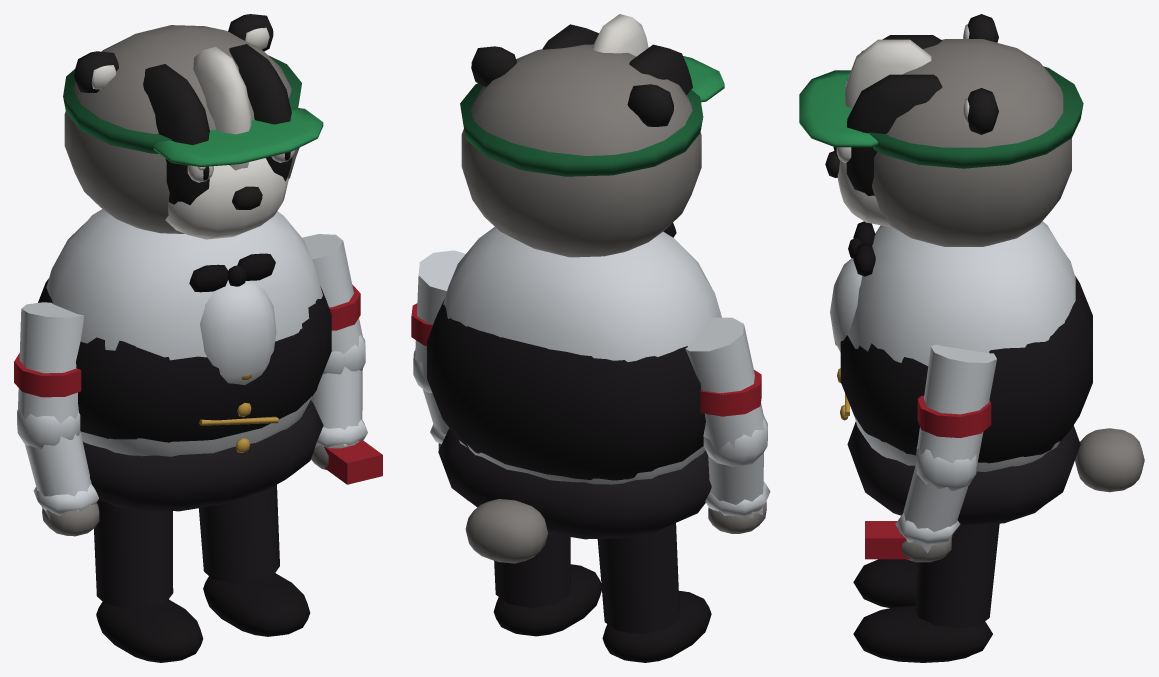
File: cedric.glb
3 renders of one model, left to right at view 1: azimuth 30°, elevation 25°; view 2: azimuth 150°, elevation 25°; view 3: azimuth 270°, elevation 25°, orthographic. The views are drawn at different scales.
Visible parts, largest first — view 1: Cedric_Body, Cedric_Head, Cedric_ArmR, Cedric_ArmL; view 2: Cedric_Body, Cedric_Head, Cedric_ArmR, Cedric_Tail, Cedric_ArmL; view 3: Cedric_Body, Cedric_Head, Cedric_ArmL, Cedric_Tail.
Part boxes in pixels (<box>): Cedric_Body: <box>38,209,331,662</box>; Cedric_Head: <box>63,14,323,239</box>; Cedric_ArmR: <box>14,302,99,536</box>; Cedric_ArmL: <box>302,234,382,484</box>; Cedric_Body: <box>427,223,721,662</box>; Cedric_Head: <box>460,14,724,257</box>; Cedric_ArmR: <box>685,317,770,533</box>; Cedric_Tail: <box>465,499,548,563</box>; Cedric_ArmL: <box>411,250,465,450</box>; Cedric_Body: <box>830,221,1092,662</box>; Cedric_Head: <box>799,14,1083,246</box>; Cedric_ArmL: <box>865,344,996,562</box>; Cedric_Tail: <box>1075,428,1144,492</box>.
Bounding box in the file's own units: 0.6641 × 1.11 × 0.5928.
